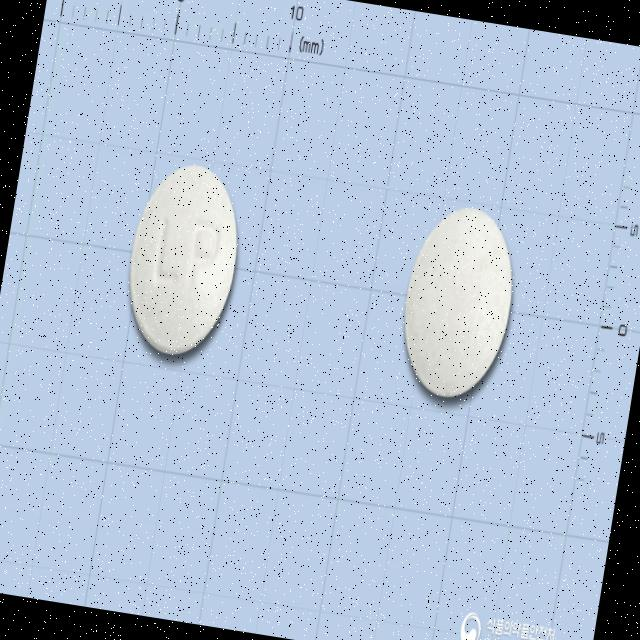Nofaxin Tab: (390, 198, 525, 410), (117, 156, 250, 364)
